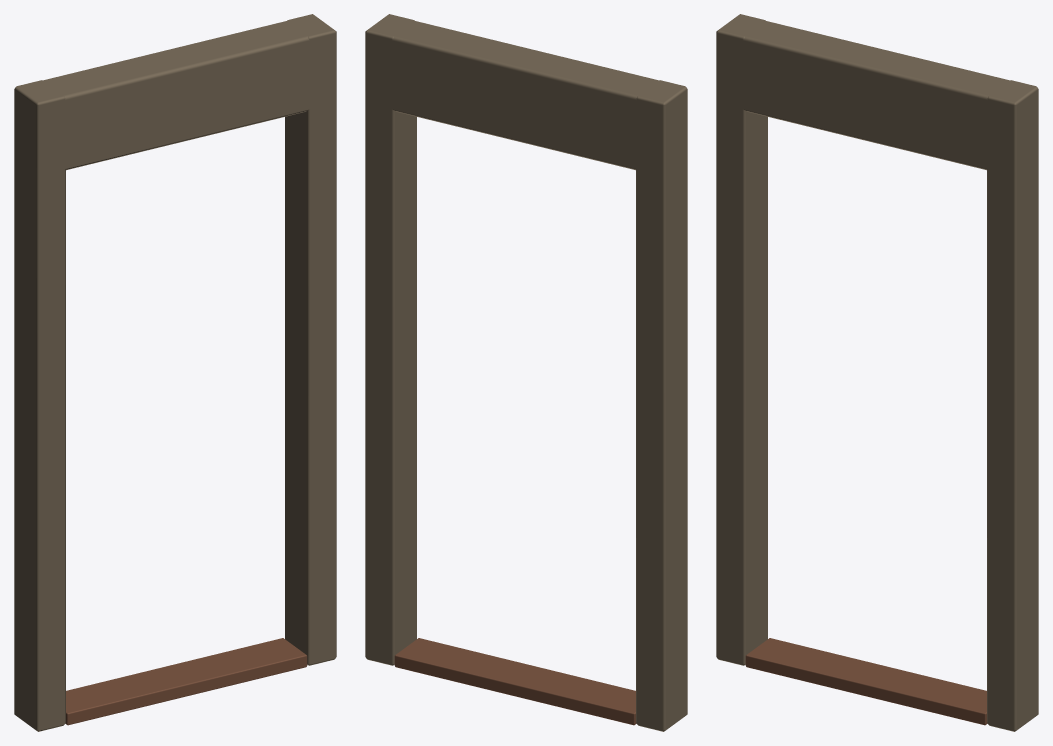
File: ghost-town-door-frame.9660ea0d.glb
3 renders of one model, left to right at view 1: azimuth 30°, elevation 25°; view 2: azimuth 150°, elevation 25°; view 3: azimuth 330°, elevation 25°, orthographic.
Parts seen in each view (by area): view 1: body; view 2: body; view 3: body.
Boxes of the visible parts, left/top/right/bottom form: body: left=14, top=14, right=336, bottom=731; body: left=365, top=14, right=687, bottom=731; body: left=716, top=14, right=1038, bottom=731.
Size of the model in its own units: 1 by 2 by 0.14.
